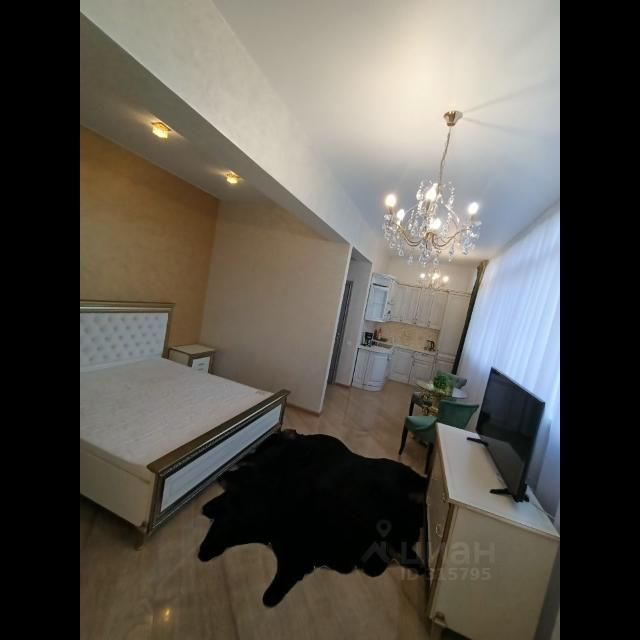Flat-Panel-TV: (468, 366, 548, 502)
